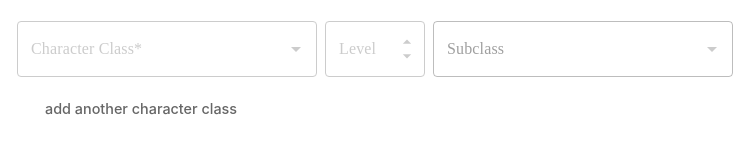
Test case: CharacterClassFields › filters class options as the user types
The image size is (750, 160).
Step 1. Type "wiz" into the dropdown labelled "Character Class*" → (152, 49), box left=26, top=30, right=278, bottom=68
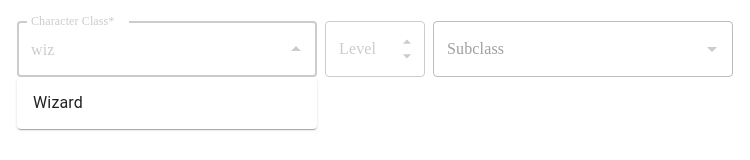
Now the option "Wizard" is shown, box left=33, top=93, right=83, bottom=112
Now the option "Fighter" is gone
